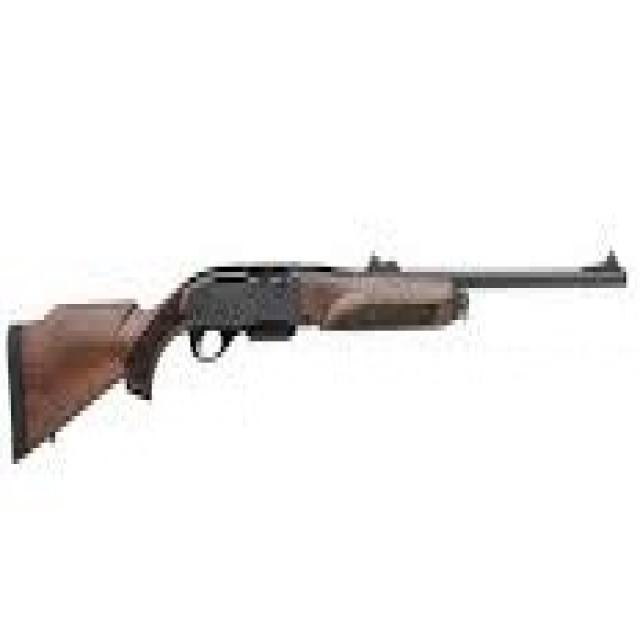rifle: (6, 243, 629, 474)
